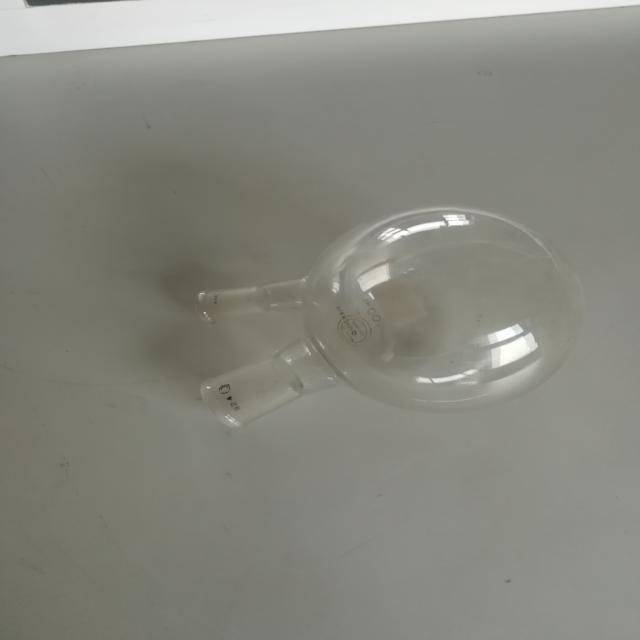Round_Bottom_Flask_Borosilicate_Glass_2_Neck: (132, 170, 610, 501)
